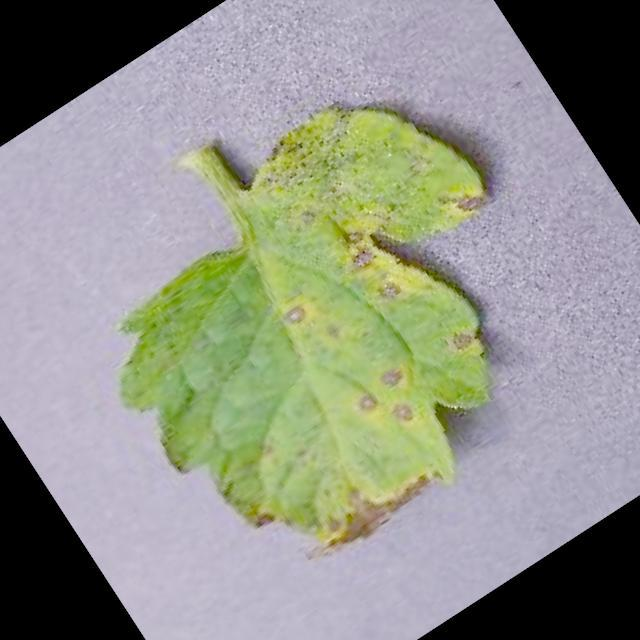Tomato Septoria spot leaf: (42, 58, 610, 616)
